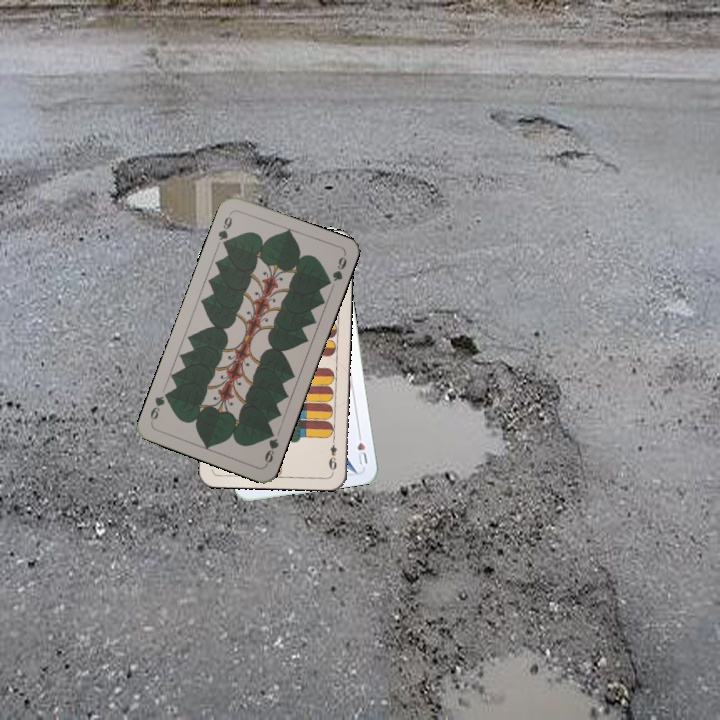E9: (325, 434, 339, 474)
G9: (214, 209, 235, 250), (261, 426, 281, 468)
HU: (353, 428, 370, 467)
